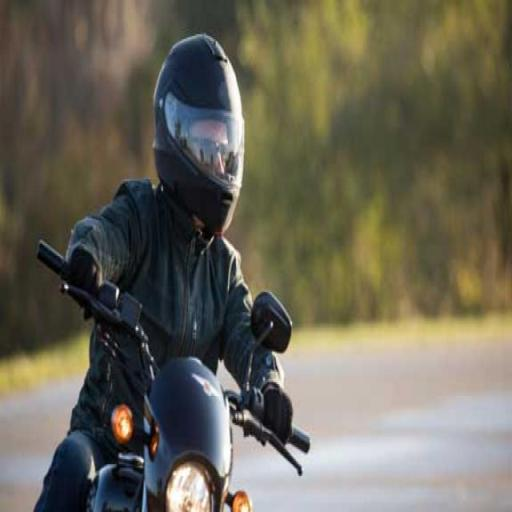Helmet: (132, 33, 259, 235)
